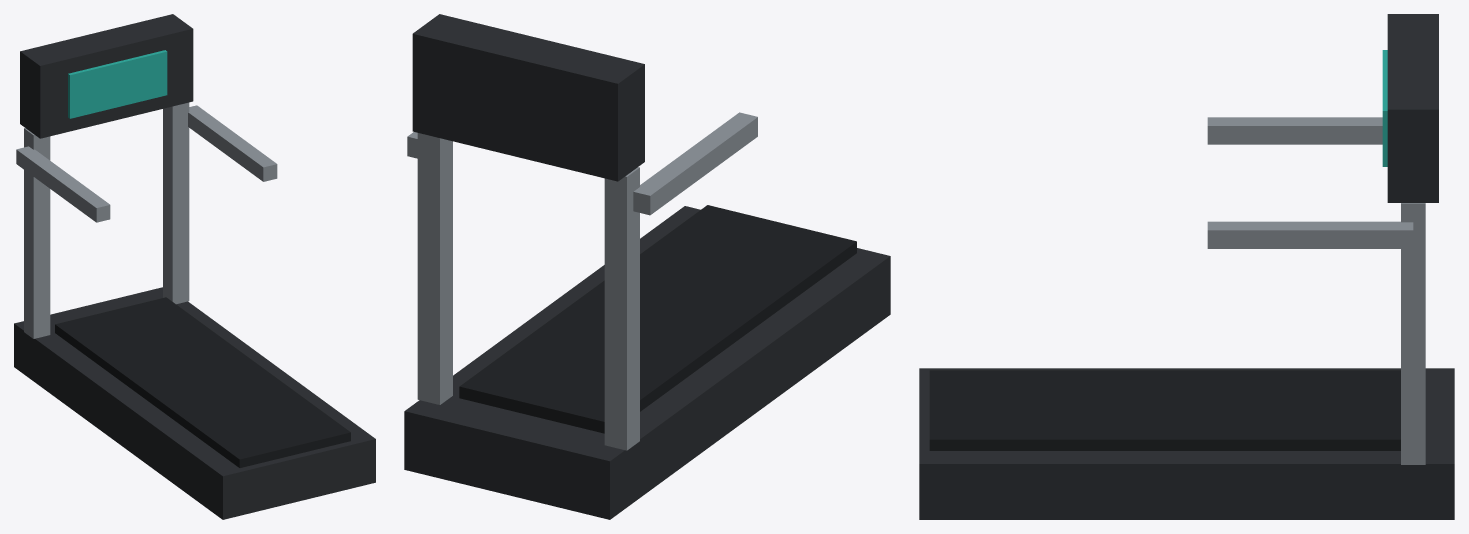
The model's file is Treadmill.fbx.
3 renders of one model, left to right at view 1: azimuth 30°, elevation 25°; view 2: azimuth 150°, elevation 25°; view 3: azimuth 270°, elevation 25°, orthographic. The views are drawn at different scales.
Parts seen in each view (by area): view 1: Treadmill_Mesh; view 2: Treadmill_Mesh; view 3: Treadmill_Mesh.
Boxes of the visible parts, box(x1,y1,x2,y2) form: Treadmill_Mesh: box(14, 14, 375, 519); Treadmill_Mesh: box(404, 14, 890, 519); Treadmill_Mesh: box(919, 14, 1454, 519).
Size of the model in its own units: 1.3 by 2.2 by 2.6.
Materials: 1 (1 with a texture image).
